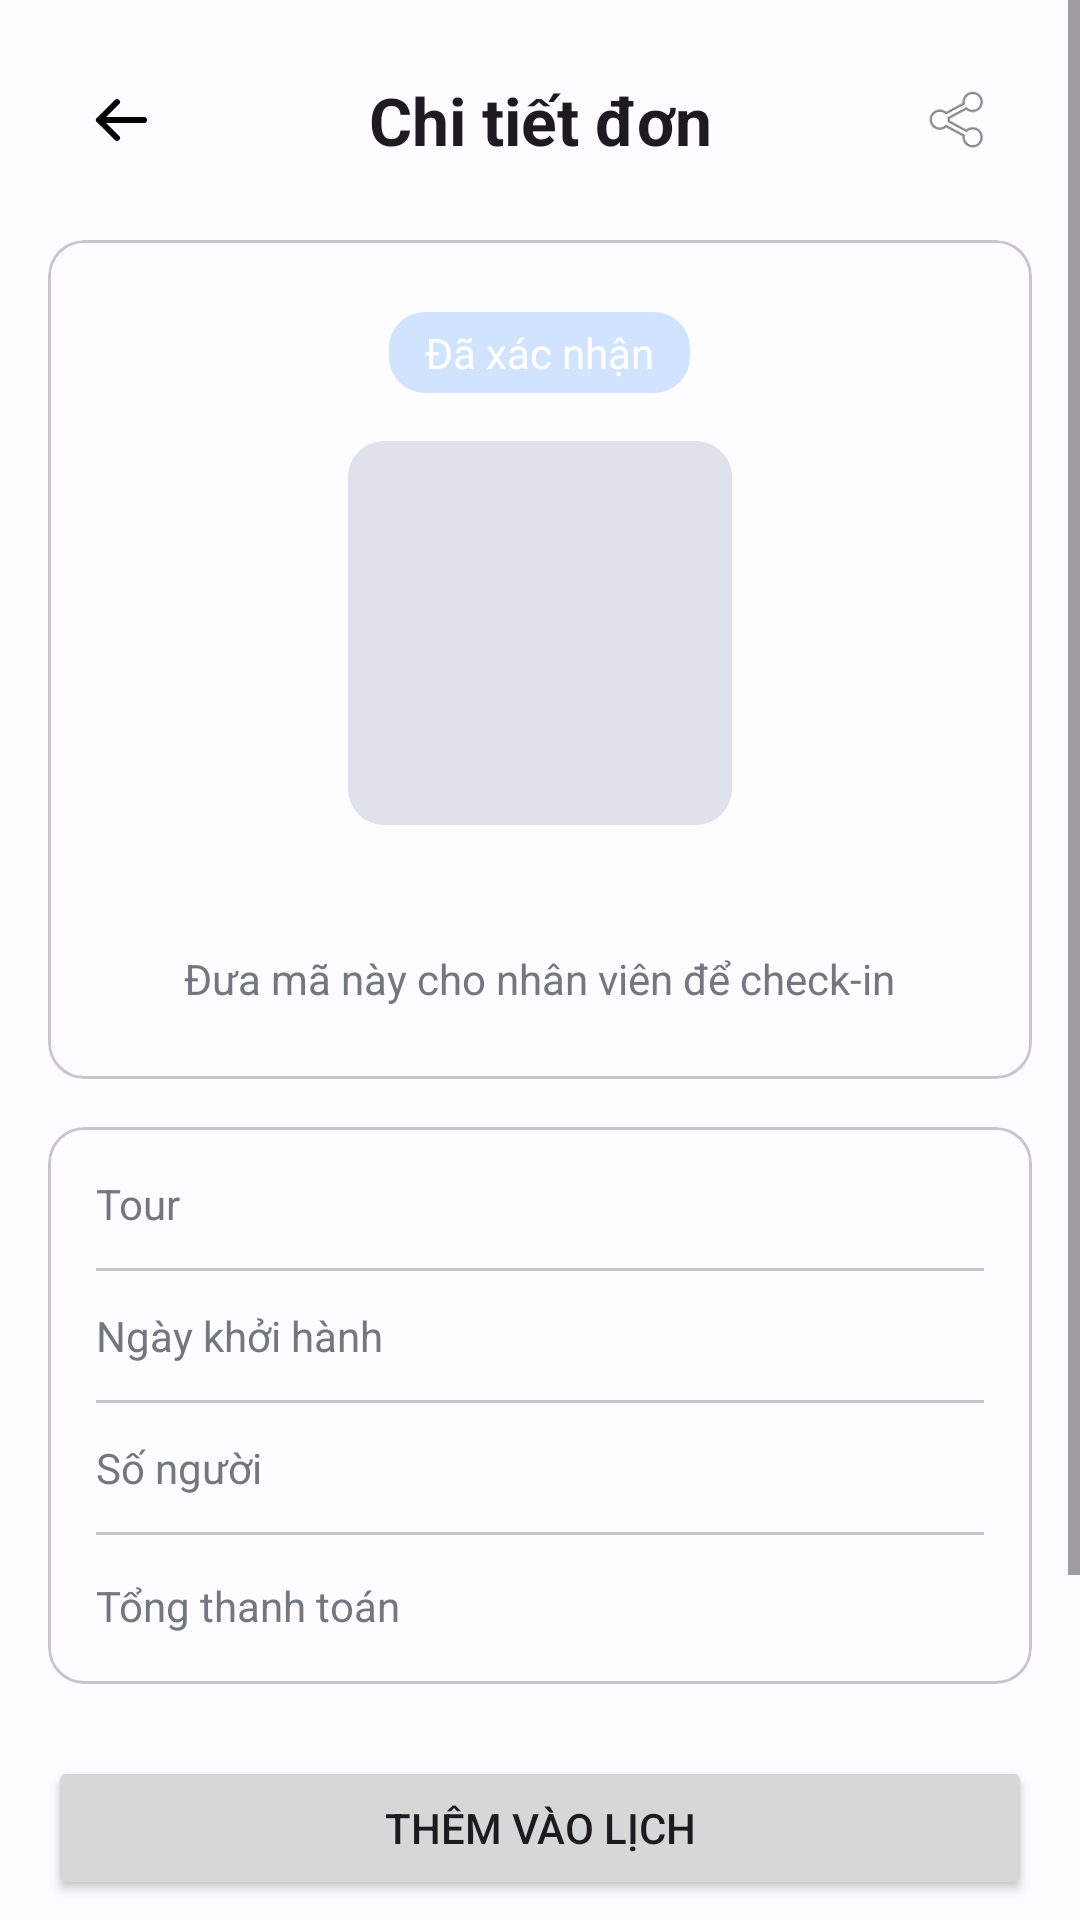

Locate icon controls on the screen. Image size 1080 x 1920, boxes as (x1, y1, x2, y2).
arrow back: (96, 99, 147, 141)
share: (929, 91, 983, 148)
